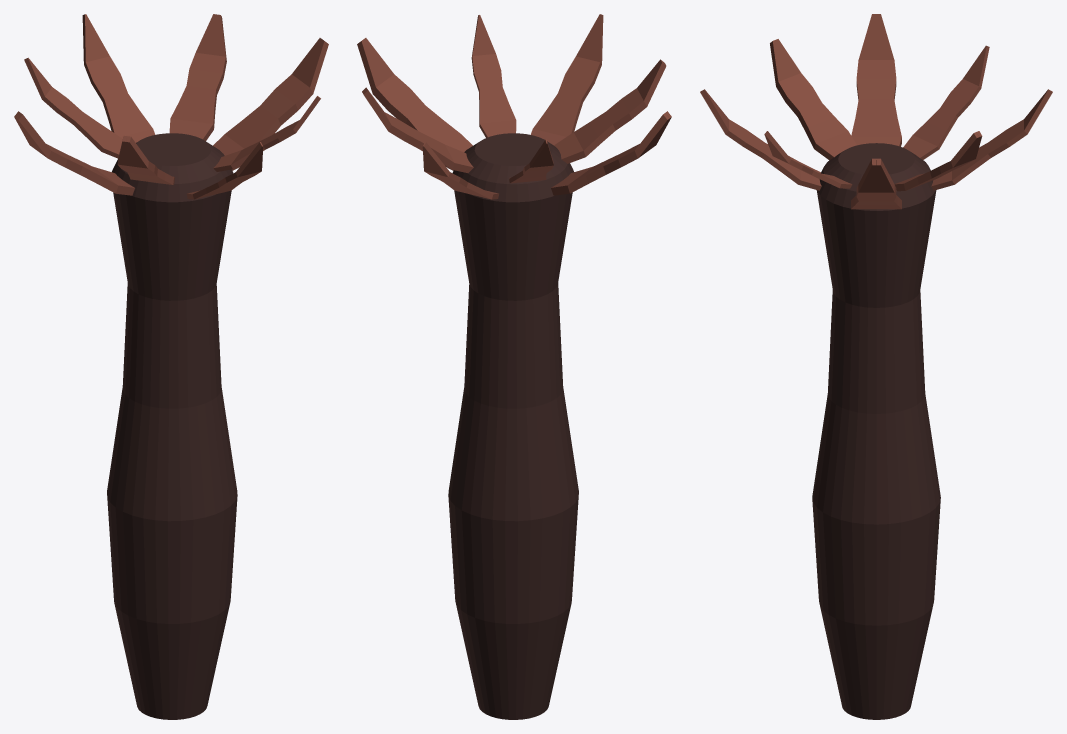
Rendered from TreeT1.glb.
The picture shows the model from 3 angles, left to right: view 1: azimuth 30°, elevation 25°; view 2: azimuth 150°, elevation 25°; view 3: azimuth 270°, elevation 25°; orthographic projection.
Visible parts, largest first — view 1: Plane.002; view 2: Plane.002; view 3: Plane.002.
Boxes of the visible parts, <box> form: Plane.002: <box>14,14,328,719</box>; Plane.002: <box>357,14,671,719</box>; Plane.002: <box>700,14,1052,719</box>.
Size of the model in its own units: 5.82 by 11.27 by 5.82.
